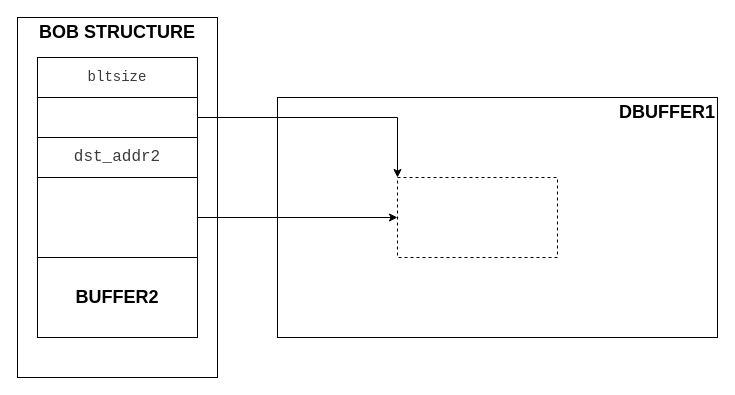
This 735x395 diagram has some shape labels left out. Here are the shapes that lost their labels. From the top down, the centre of each, then its label:
At [117,117]: "dst_addr1".
At [117,217]: "BUFFER1".
